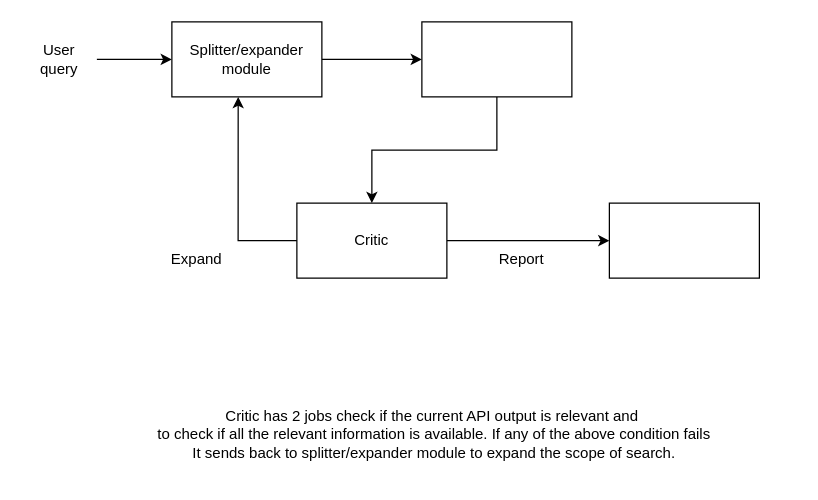
Image size: 818x500. Some labels were removed from this diagram. Here are the shapes that lost their labels. From the top down, the centre of each, then its label:
At pixel 496 59: "API data fetch".
At pixel 683 240: "Composer".
